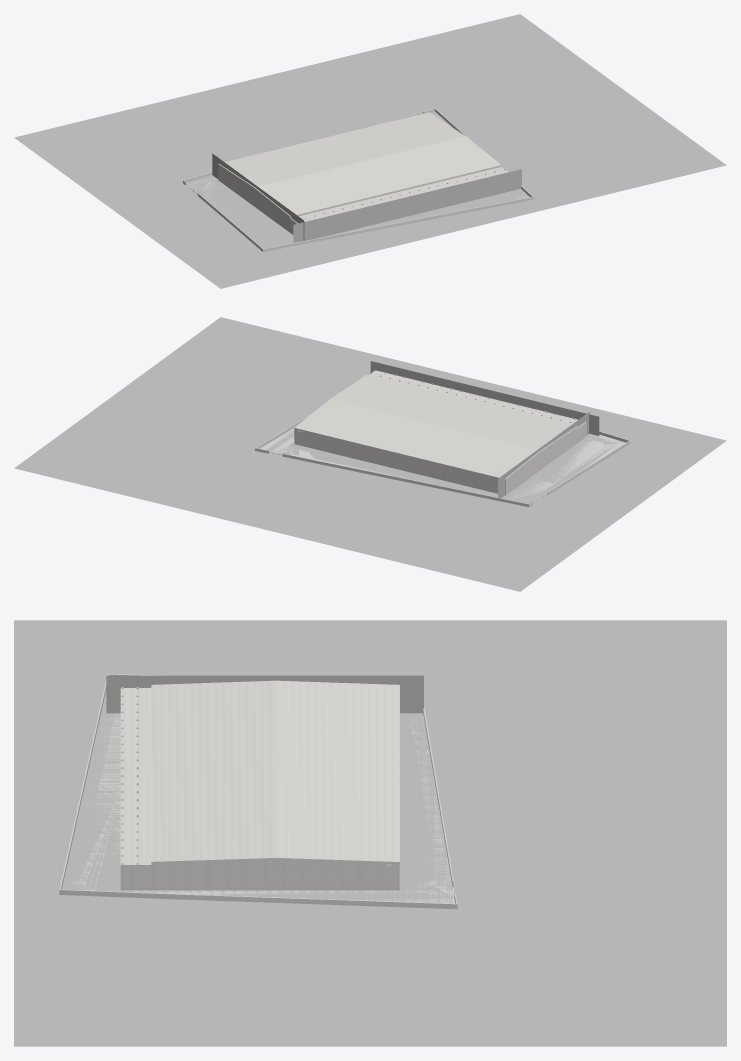
3 views of the same model, one above another, from view 1: azimuth 30°, elevation 25°; view 2: azimuth 150°, elevation 25°; view 3: azimuth 270°, elevation 25° (orthographic). The views are drawn at different scales.
Visible parts, largest first — view 1: Plot Plan, Rectangle003, Back, Line001, Rectangle002, Side; view 2: Plot Plan, Rectangle003, Rectangle002, Back, Line001, Line141, Side, Line139, Rectangle001; view 3: Plot Plan, Rectangle003, Rectangle002, Side, Line001, Line139, Line143, Line141, Rectangle001.
Boxes of the visible parts, x1,y1,x2,y2 form: Plot Plan: (14, 14, 726, 288); Rectangle003: (218, 112, 508, 223); Back: (293, 169, 521, 242); Line001: (183, 108, 533, 251); Rectangle002: (219, 165, 296, 233); Side: (212, 153, 304, 240); Plot Plan: (14, 317, 726, 591); Rectangle003: (294, 370, 586, 479); Rectangle002: (295, 423, 585, 493); Back: (370, 361, 599, 435); Line001: (255, 414, 630, 506); Line141: (547, 438, 606, 483); Side: (498, 411, 589, 498); Line139: (269, 434, 619, 500); Rectangle001: (294, 435, 586, 495); Plot Plan: (14, 620, 726, 1046); Rectangle003: (120, 680, 399, 865); Rectangle002: (123, 857, 396, 887); Side: (106, 675, 423, 713); Line001: (59, 674, 457, 909); Line139: (73, 698, 454, 898); Line143: (79, 791, 436, 892); Line141: (98, 713, 120, 791); Rectangle001: (120, 888, 399, 890).
Size of the model in its own units: 189 by 10.46 by 134.
